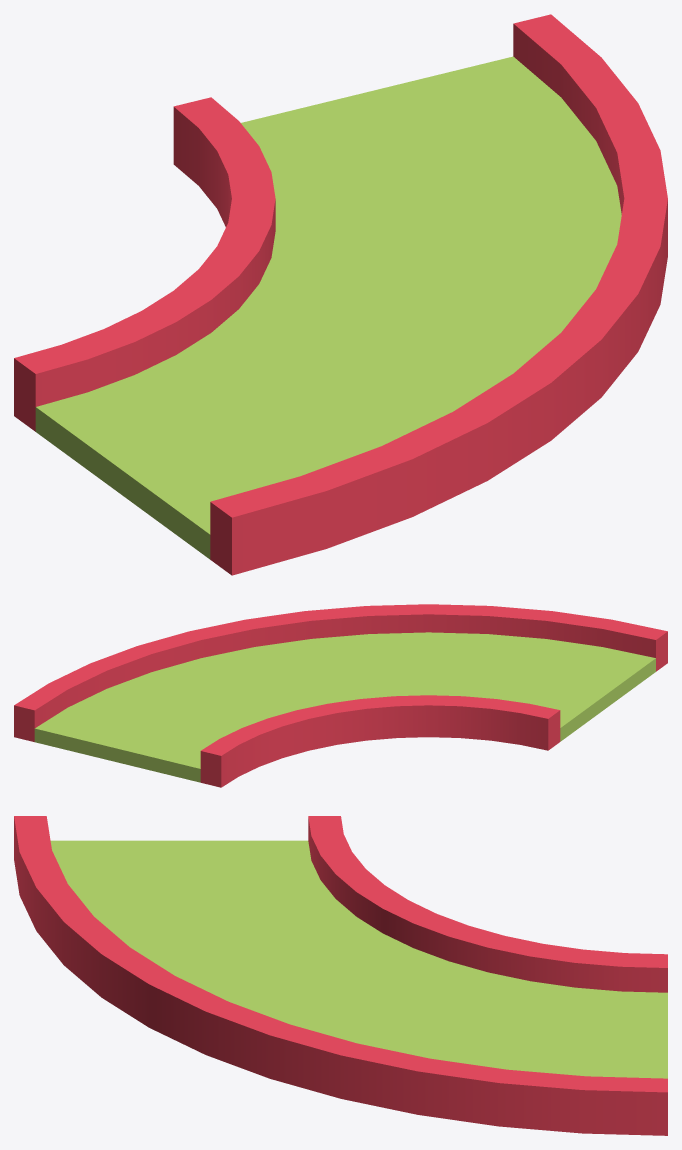
The model's file is roundLargeCorner.fbx.
3 renders of one model, top to bottom at view 1: azimuth 30°, elevation 25°; view 2: azimuth 150°, elevation 25°; view 3: azimuth 270°, elevation 25°, orthographic. The views are drawn at different scales.
Visible parts, largest first — view 1: roundLargeCorner; view 2: roundLargeCorner; view 3: roundLargeCorner.
Boxes of the visible parts, x1,y1,x2,y2 form: roundLargeCorner: [14, 14, 667, 575]; roundLargeCorner: [14, 604, 667, 787]; roundLargeCorner: [14, 816, 667, 1135].
Size of the model in its own units: 20 by 1.47 by 20.
